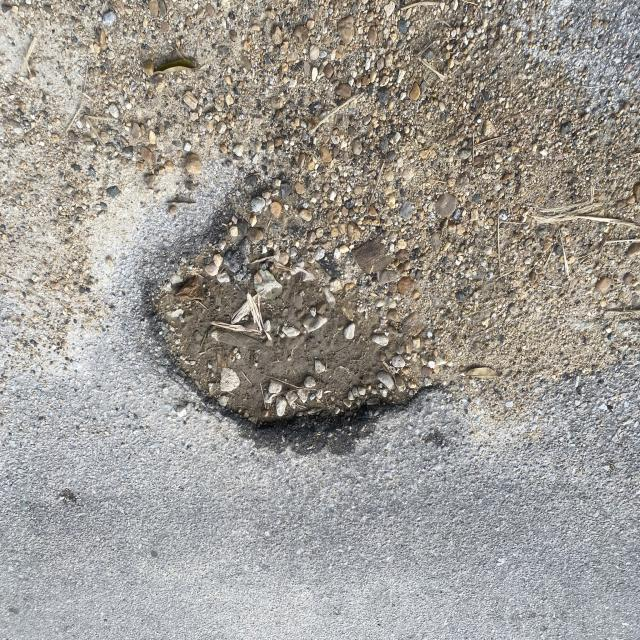pothole: (121, 216, 558, 528)
